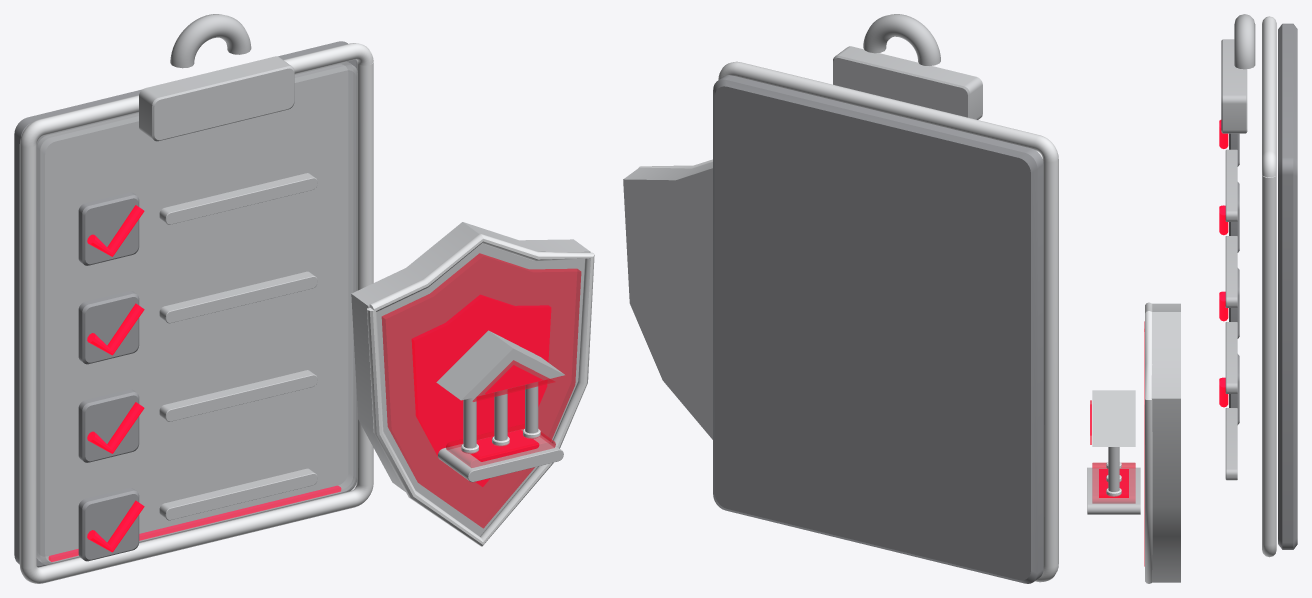
File: 19-compliance.glb
3 renders of one model, left to right at view 1: azimuth 30°, elevation 25°; view 2: azimuth 150°, elevation 25°; view 3: azimuth 270°, elevation 25°, orthographic. The views are drawn at different scales.
Parts seen in each view (by area): view 1: BC brushed iron, BC clear optical glass, BC satin iron, BC ruby optical glass, BC polished iron bevel, BC internal ruby light; view 2: BC brushed iron, BC satin iron, BC polished iron bevel; view 3: BC satin iron, BC brushed iron, BC polished iron bevel, BC ruby optical glass, BC internal ruby light.
Boxes of the visible parts, left/top/right/bottom form: BC brushed iron: left=14, top=41, right=356, bottom=567; BC clear optical glass: left=36, top=61, right=357, bottom=565; BC satin iron: left=139, top=14, right=590, bottom=536; BC ruby optical glass: left=381, top=253, right=581, bottom=528; BC polished iron bevel: left=19, top=43, right=594, bottom=583; BC internal ruby light: left=48, top=205, right=551, bottom=561; BC brushed iron: left=713, top=75, right=1043, bottom=583; BC satin iron: left=623, top=14, right=982, bottom=439; BC polished iron bevel: left=638, top=61, right=1058, bottom=582; BC satin iron: left=1087, top=14, right=1255, bottom=582; BC brushed iron: left=1229, top=23, right=1297, bottom=549; BC polished iron bevel: left=1106, top=16, right=1276, bottom=583; BC ruby optical glass: left=1090, top=321, right=1144, bottom=566; BC internal ruby light: left=1090, top=120, right=1228, bottom=497.
Size of the model in its own units: 1.94 by 2 by 0.8048.
